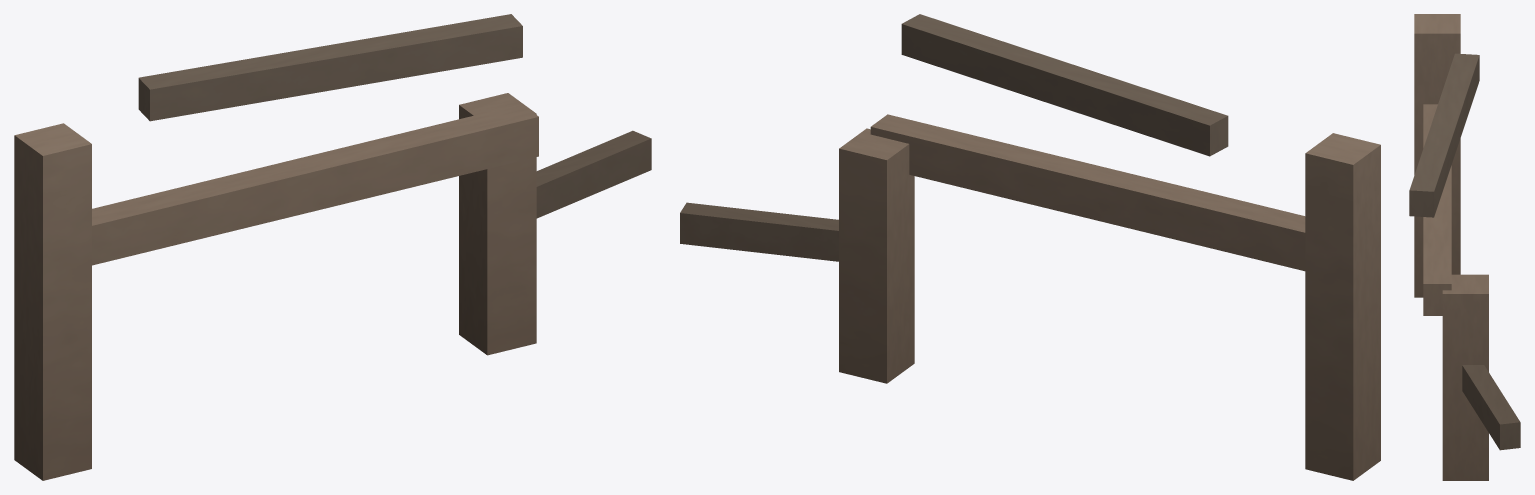
The model's file is broken_fence_scrap.glb.
The picture shows the model from 3 angles, left to right: view 1: azimuth 30°, elevation 25°; view 2: azimuth 150°, elevation 25°; view 3: azimuth 270°, elevation 25°; orthographic projection. The views are drawn at different scales.
Parts seen in each view (by area): view 1: broken_fence_scrap; view 2: broken_fence_scrap; view 3: broken_fence_scrap.
Part boxes in pixels (x1,y1,x2,y2): broken_fence_scrap: (14, 14, 651, 480); broken_fence_scrap: (680, 14, 1380, 480); broken_fence_scrap: (1409, 14, 1520, 480).
Bounding box in the file's own units: 1.75 × 0.86 × 0.3124.
Materials: 1 (1 with a texture image).
